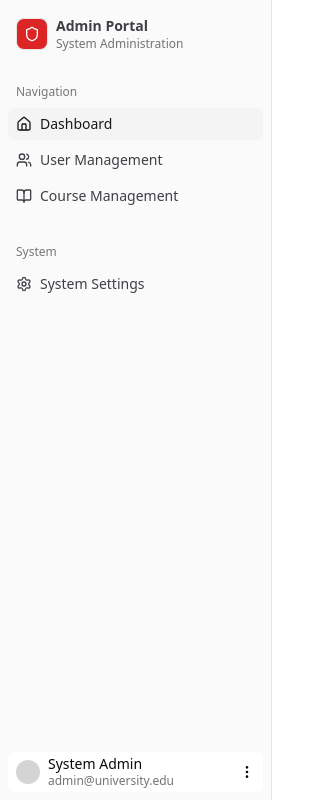
Test: AdminSidebar › renders the dropdown menu in the footer with correct items
Click the button: (136, 772) [8, 752, 263, 792]
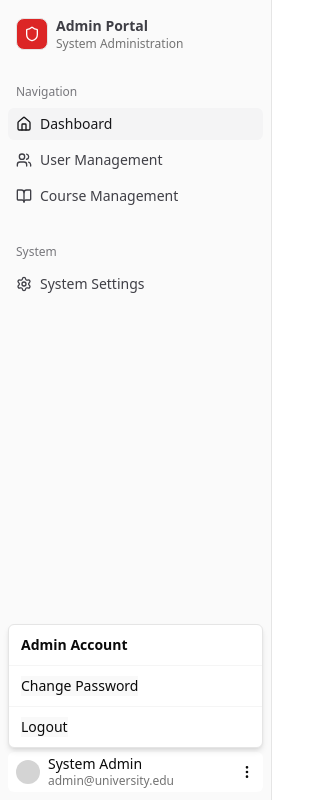
Result: the text "Admin Account" is shown at [21, 635, 128, 654]
Result: the button "Logout" is shown at [21, 717, 68, 737]
